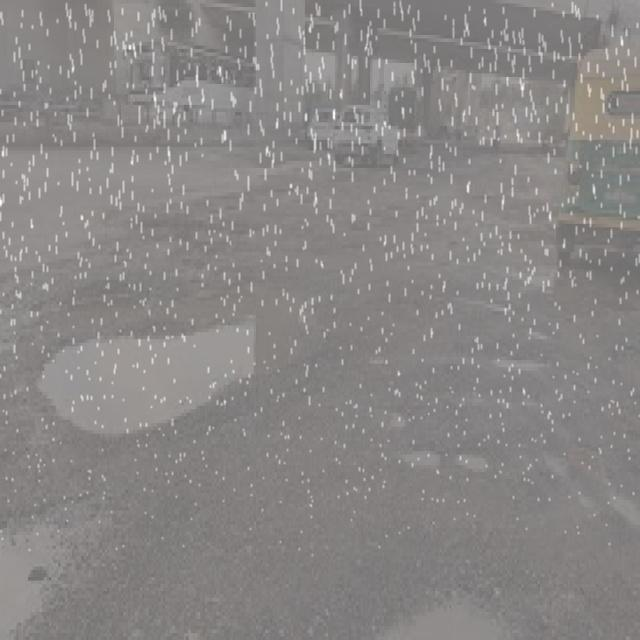Pothole: (27, 309, 287, 446), (0, 508, 77, 640), (397, 440, 449, 478), (449, 448, 496, 481)
